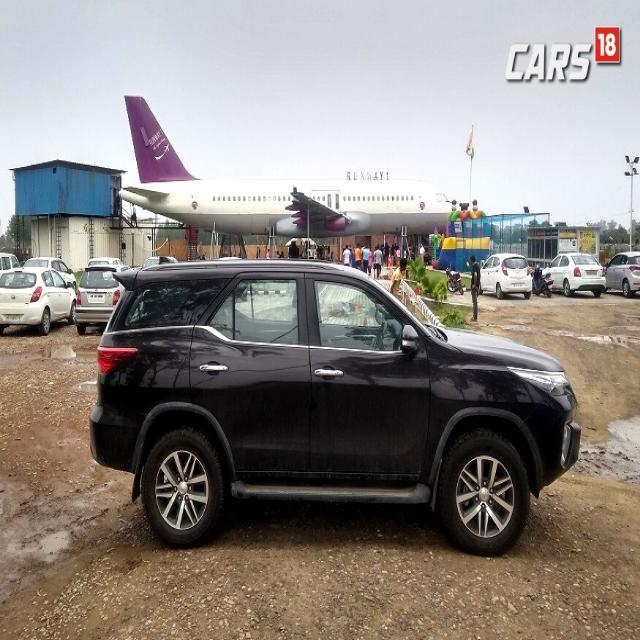light_vehicle: (89, 258, 581, 554)
